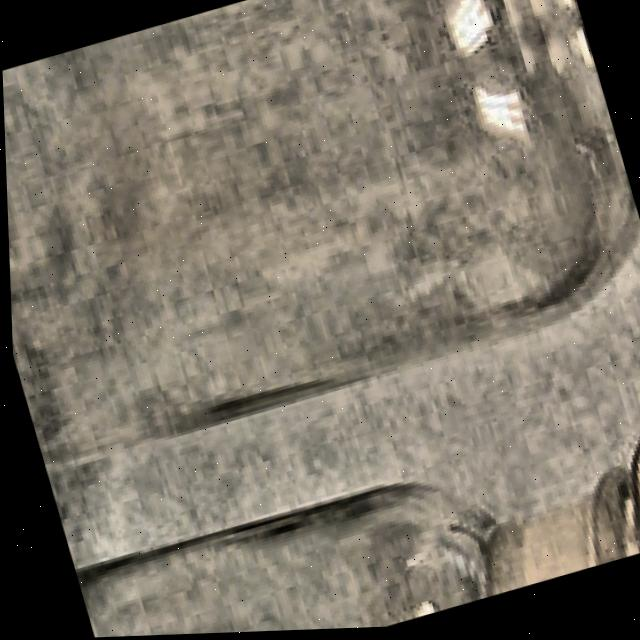glass: (2, 0, 640, 473), (70, 439, 640, 638)
